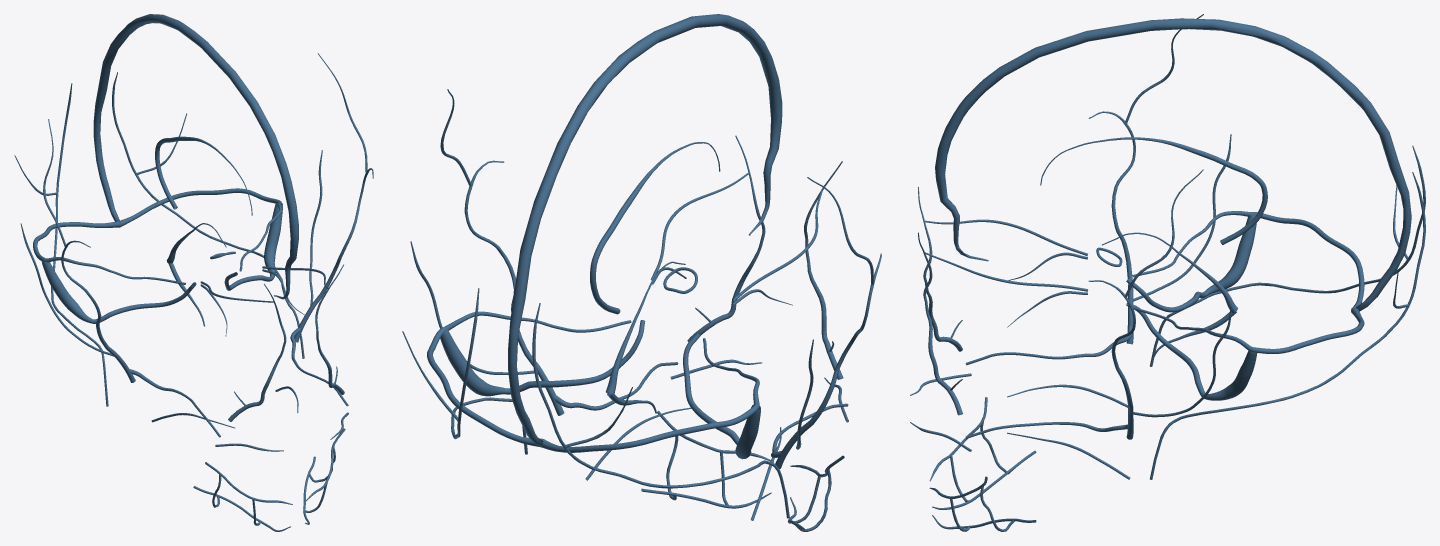
File: venous-head-mobile.glb
3 views of the same model, side by side, from view 1: azimuth 30°, elevation 25°; view 2: azimuth 150°, elevation 25°; view 3: azimuth 270°, elevation 25° (orthographic). The views are drawn at different scales.
Visible parts, largest first — view 1: za.superior-sagittal-sinus, za.occipital-vein-l, za.occipital-vein-r, za.superficial-temporal-veins-l, za.superficial-temporal-veins-r, za.transverse-sinus-l, za.sigmoid-sinus-r, za.inferior-sagittal-sinus, za.sigmoid-sinus-l, za.angular-vein-r, za.transverse-sinus-r, za.inferior-petrosal-sinus-r (+6 smaller); view 2: za.superior-sagittal-sinus, za.occipital-vein-r, za.transverse-sinus-r, za.inferior-sagittal-sinus, za.superficial-temporal-veins-r, za.sigmoid-sinus-l, za.superficial-temporal-veins-l, za.occipital-vein-l, za.transverse-sinus-l, za.angular-vein-l, za.inferior-petrosal-sinus-l, za.angular-vein-r (+7 smaller); view 3: za.superior-sagittal-sinus, za.occipital-vein-l, za.inferior-sagittal-sinus, za.occipital-vein-r, za.superficial-temporal-veins-r, za.superficial-temporal-veins-l, za.sigmoid-sinus-r, za.transverse-sinus-r, za.sigmoid-sinus-l, za.angular-vein-l, za.transverse-sinus-l, za.angular-vein-r (+5 smaller).
Boxes of the visible parts, x1,y1,x2,y2 form: za.superior-sagittal-sinus: [93, 14, 298, 299]; za.occipital-vein-l: [112, 72, 304, 358]; za.occipital-vein-r: [14, 83, 108, 406]; za.superficial-temporal-veins-l: [309, 53, 373, 310]; za.superficial-temporal-veins-r: [43, 119, 119, 358]; za.transverse-sinus-l: [119, 188, 279, 226]; za.sigmoid-sinus-r: [41, 261, 92, 323]; za.inferior-sagittal-sinus: [155, 136, 252, 215]; za.sigmoid-sinus-l: [264, 202, 282, 277]; za.angular-vein-r: [228, 283, 286, 421]; za.transverse-sinus-r: [33, 221, 119, 261]; za.inferior-petrosal-sinus-r: [91, 282, 196, 323]; za.superior-sagittal-sinus: [508, 14, 782, 446]; za.occipital-vein-r: [532, 303, 789, 518]; za.transverse-sinus-r: [540, 404, 758, 452]; za.inferior-sagittal-sinus: [590, 142, 720, 314]; za.superficial-temporal-veins-r: [795, 177, 881, 435]; za.sigmoid-sinus-l: [440, 329, 506, 396]; za.superficial-temporal-veins-l: [440, 89, 542, 372]; za.occipital-vein-l: [402, 288, 527, 454]; za.transverse-sinus-l: [427, 328, 542, 447]; za.angular-vein-l: [687, 135, 765, 341]; za.inferior-petrosal-sinus-l: [506, 320, 645, 394]; za.angular-vein-r: [804, 161, 843, 379]; za.superior-sagittal-sinus: [935, 18, 1411, 311]; za.occipital-vein-l: [1150, 172, 1425, 479]; za.inferior-sagittal-sinus: [1040, 137, 1267, 244]; za.occipital-vein-r: [1150, 145, 1425, 366]; za.superficial-temporal-veins-r: [1088, 14, 1203, 300]; za.superficial-temporal-veins-l: [1088, 169, 1203, 415]; za.sigmoid-sinus-r: [1205, 215, 1256, 294]; za.transverse-sinus-r: [1253, 212, 1364, 310]; za.sigmoid-sinus-l: [1205, 350, 1257, 400]; za.angular-vein-l: [918, 232, 962, 415]; za.transverse-sinus-l: [1252, 307, 1364, 353]; za.angular-vein-r: [918, 187, 962, 351].
Size of the model in its own units: 0.1579 by 0.2053 by 0.1918.
